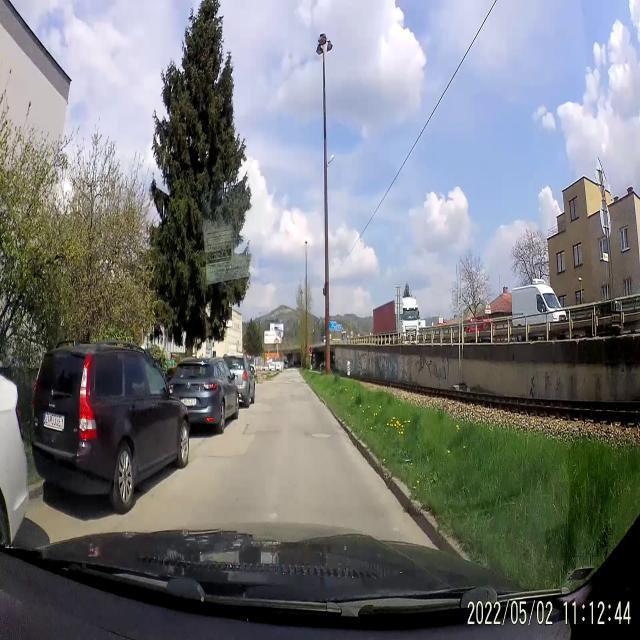Manhole: (310, 429, 332, 442)
